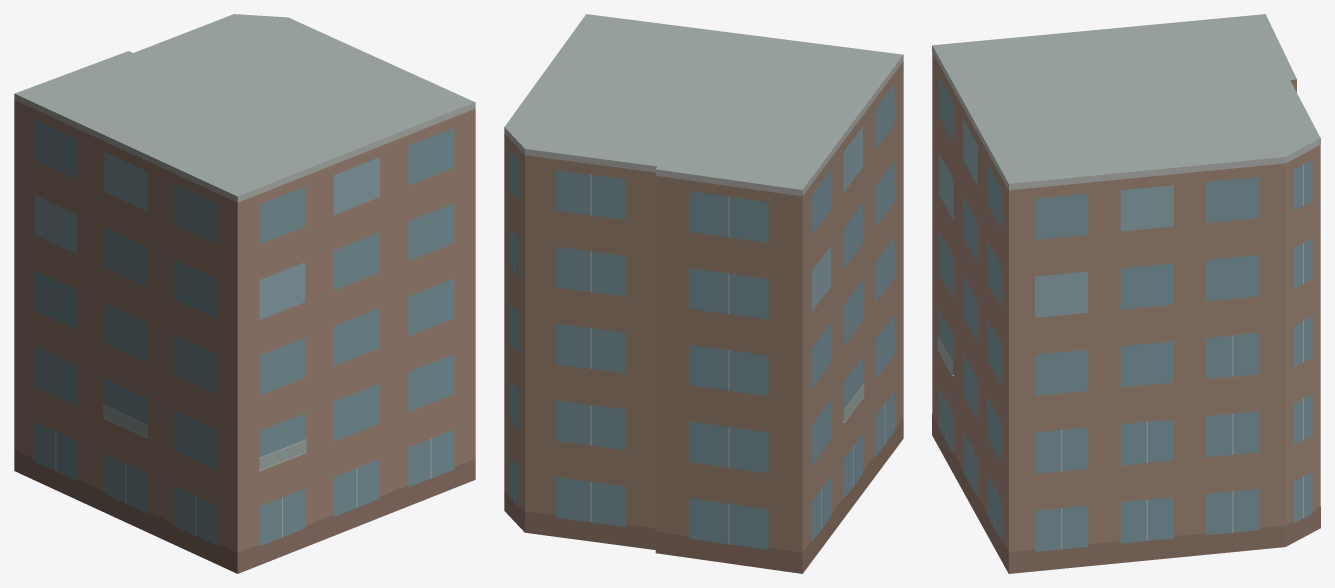
The model's file is survey-upis-32872055.glb.
3 renders of one model, left to right at view 1: azimuth 30°, elevation 25°; view 2: azimuth 150°, elevation 25°; view 3: azimuth 270°, elevation 25°, orthographic. The views are drawn at different scales.
Parts seen in each view (by area): view 1: survey-upis-32872055.tmp; view 2: survey-upis-32872055.tmp; view 3: survey-upis-32872055.tmp.
Boxes of the visible parts, x1,y1,x2,y2 form: survey-upis-32872055.tmp: [14, 14, 475, 573]; survey-upis-32872055.tmp: [504, 14, 903, 573]; survey-upis-32872055.tmp: [932, 14, 1320, 573].
Bounding box in the file's own units: 13.84 × 14.8 × 13.38.
